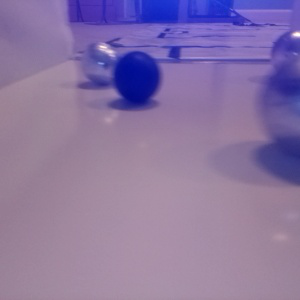alive_ball: (258, 58, 300, 156), (80, 41, 119, 86), (270, 30, 300, 80)
dead_ball: (112, 50, 161, 102)
